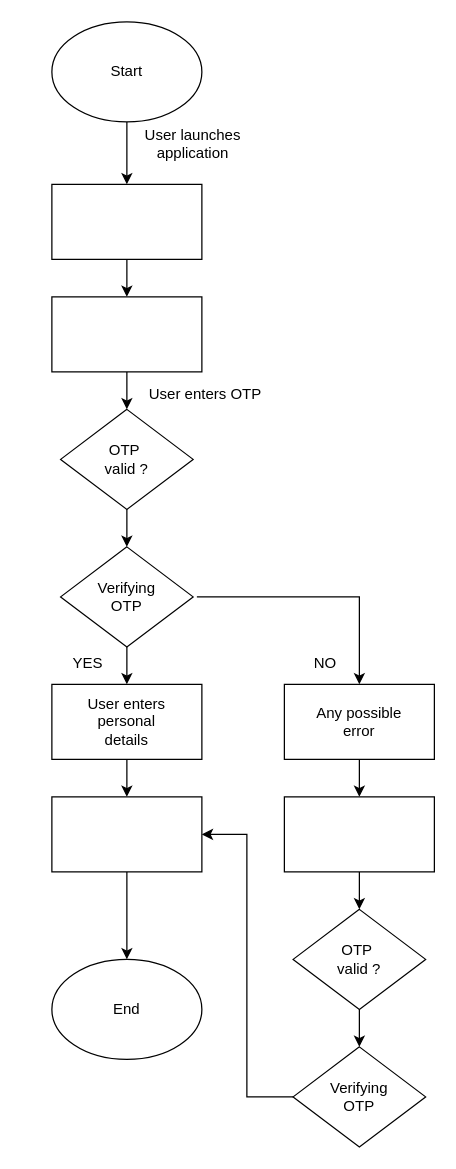
Some shapes in this 456 by 1169 pixel diagram are drawn without their labels. Each missing label, with the centre of its shape:
Application saves info: the point at 126,834
Sending & Receiving OTP: the point at 126,334
User re-enters data: the point at 358,834
User Registeration: the point at 126,221
